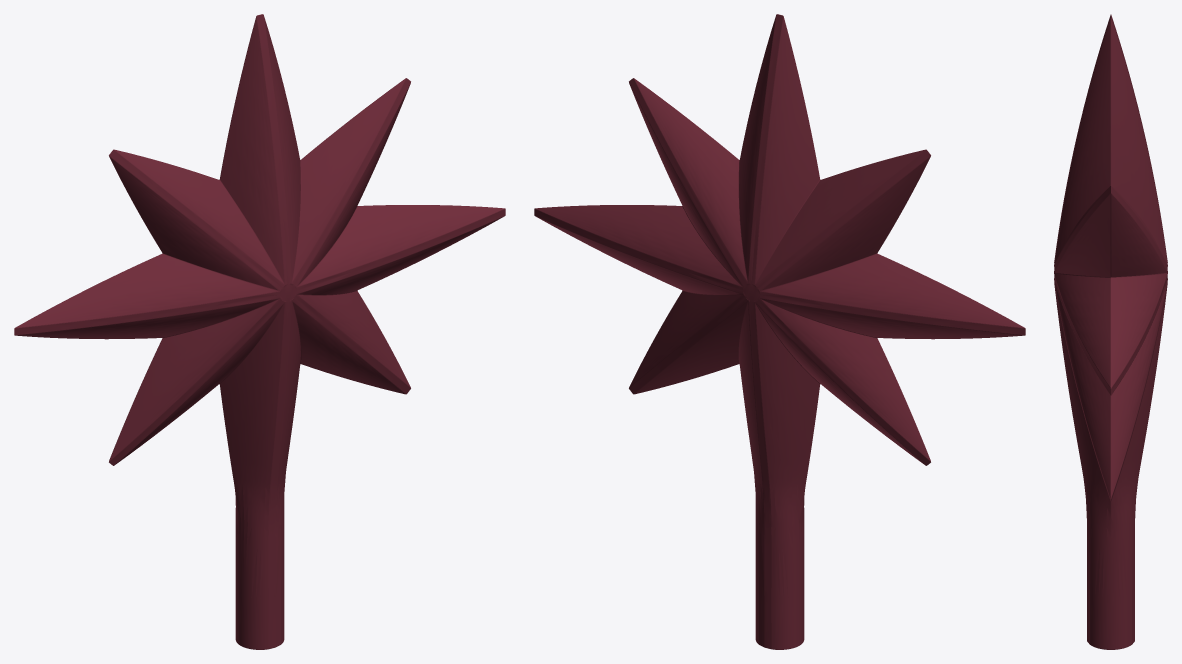
The model's file is red_glossy.glb.
3 views of the same model, side by side, from view 1: azimuth 30°, elevation 25°; view 2: azimuth 150°, elevation 25°; view 3: azimuth 270°, elevation 25° (orthographic).
Visible parts, largest first — view 1: big_star; view 2: big_star; view 3: big_star.
Boxes of the visible parts, left/top/right/bottom form: big_star: left=14, top=14, right=505, bottom=649; big_star: left=534, top=14, right=1025, bottom=649; big_star: left=1054, top=14, right=1167, bottom=649.
Size of the model in its own units: 0.3496 by 0.4248 by 0.0701.
